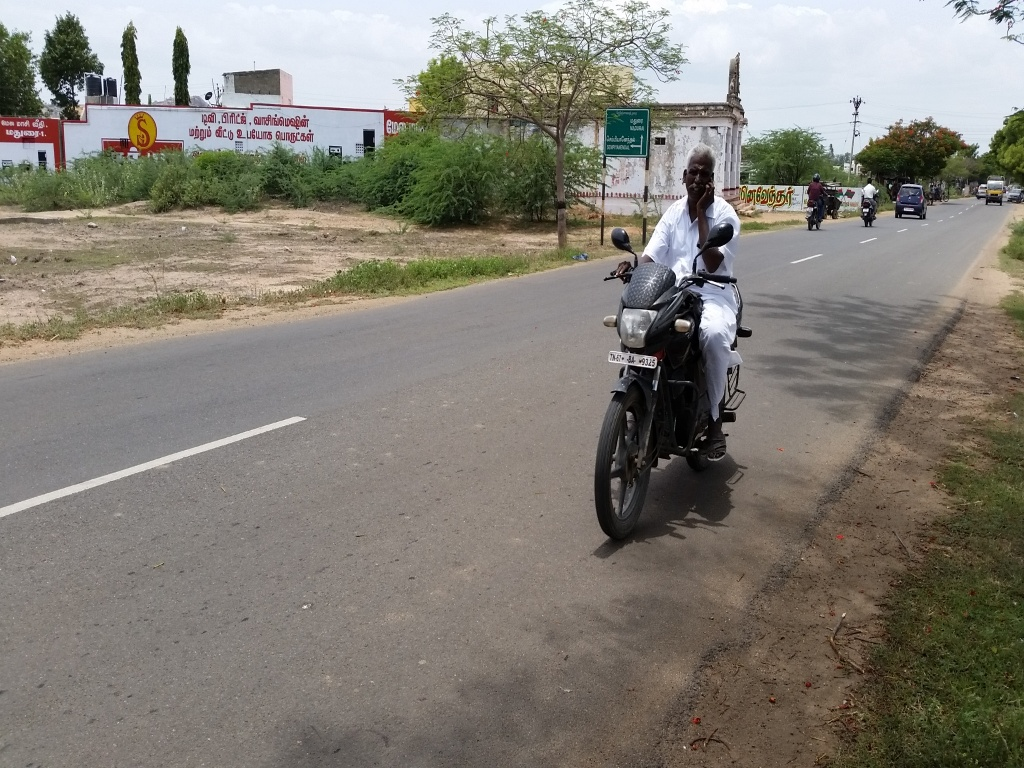biker: (537, 112, 802, 553)
nohelmet: (677, 140, 726, 215)
